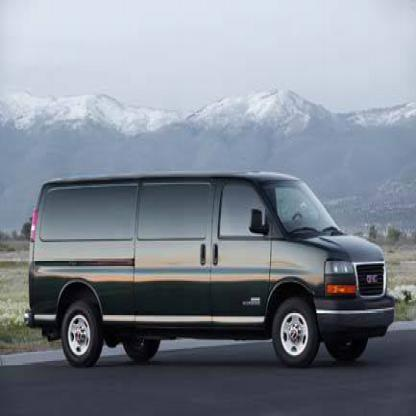Vehicle: (24, 174, 398, 373)
